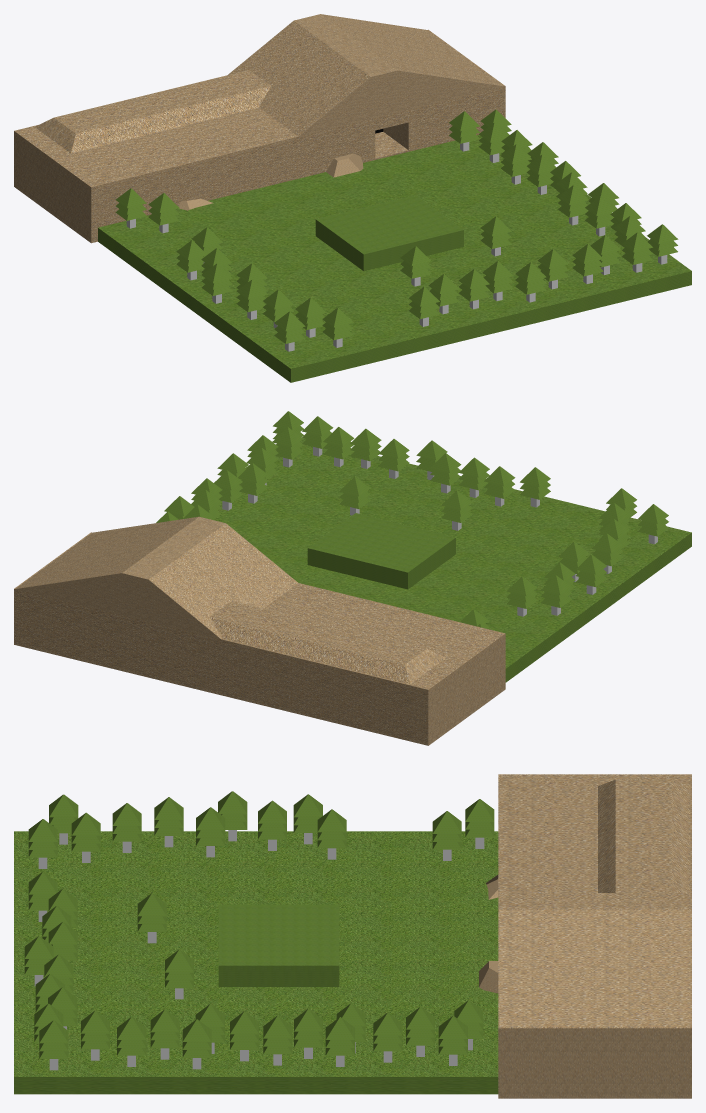
File: Sougen_1_1.fbx
The picture shows the model from 3 angles, top to bottom: view 1: azimuth 30°, elevation 25°; view 2: azimuth 150°, elevation 25°; view 3: azimuth 270°, elevation 25°; orthographic projection. The views are drawn at different scales.
Parts seen in each view (by area): view 1: Box001, Box006, Box004, Box002, Box007; view 2: Box006, Box001, Box004, Box002; view 3: Box001, Box006, Box004, Box002, Box007, Box082, Box158, Box078, Box042, Box094, Box070, Box090 (+25 smaller).
Part boxes in pixels (<box>): Box001: <box>98,134,691,382</box>; Box006: <box>14,29,505,243</box>; Box004: <box>228,14,503,136</box>; Box002: <box>315,195,463,271</box>; Box007: <box>326,153,363,177</box>; Box006: <box>14,532,505,745</box>; Box001: <box>214,438,691,682</box>; Box004: <box>15,516,297,639</box>; Box002: <box>307,513,455,589</box>; Box001: <box>14,831,498,1094</box>; Box006: <box>498,774,691,1098</box>; Box004: <box>498,893,691,1027</box>; Box002: <box>218,904,339,986</box>; Box007: <box>479,961,498,993</box>; Box082: <box>218,791,247,814</box>; Box158: <box>137,893,166,916</box>; Box078: <box>196,807,225,830</box>; Box042: <box>39,1020,68,1043</box>; Box094: <box>317,809,346,832</box>; Box070: <box>49,794,78,817</box>; Box090: <box>293,794,322,817</box>.
Size of the model in its own units: 310 by 350 by 70.
